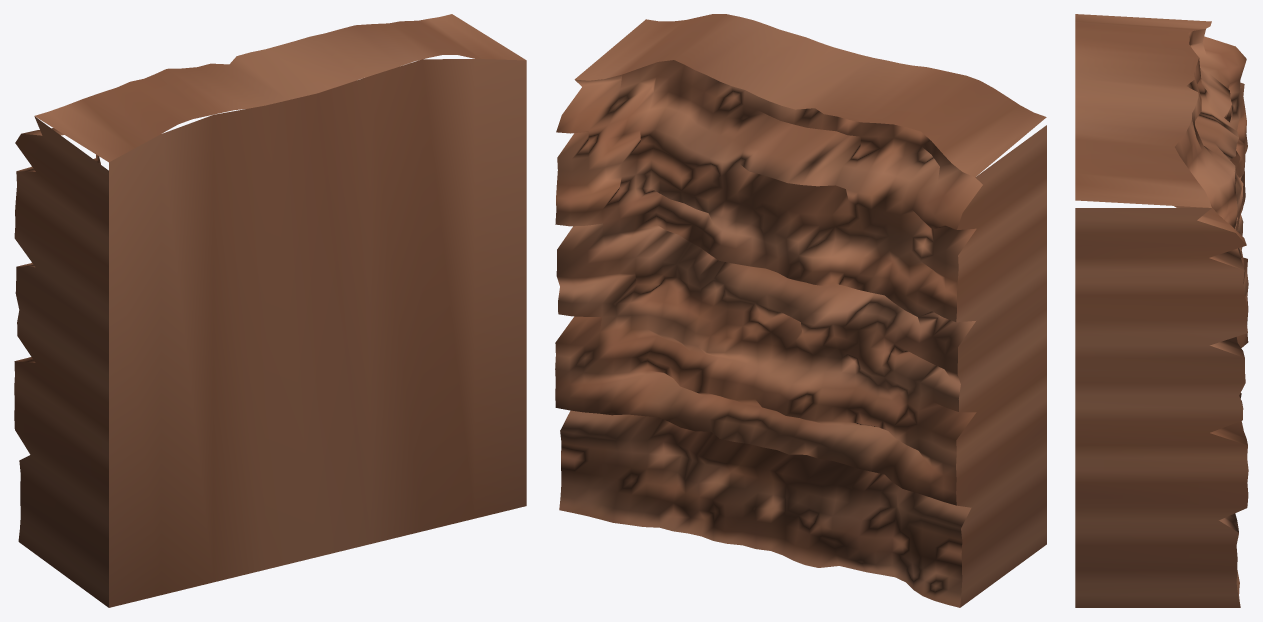
File: cliff.sandstone.red.glb
3 views of the same model, side by side, from view 1: azimuth 30°, elevation 25°; view 2: azimuth 150°, elevation 25°; view 3: azimuth 270°, elevation 25° (orthographic). The views are drawn at different scales.
Parts seen in each view (by area): view 1: cliff_sandstone_red; view 2: cliff_sandstone_red; view 3: cliff_sandstone_red.
Boxes of the visible parts, box(x1,y1,x2,y2) form: cliff_sandstone_red: box(14, 14, 526, 607); cliff_sandstone_red: box(555, 14, 1046, 607); cliff_sandstone_red: box(1075, 14, 1248, 607).
Size of what is drawn, in the model's own units: 8 by 8.64 by 3.14.
